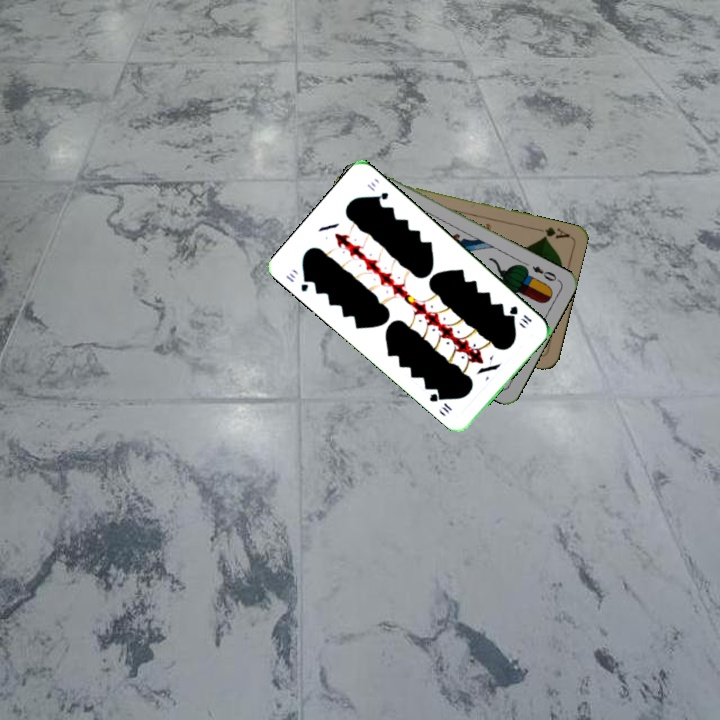EO: (528, 262, 562, 284)
G10: (281, 268, 313, 294), (505, 302, 535, 328)
GA: (539, 223, 572, 241)
